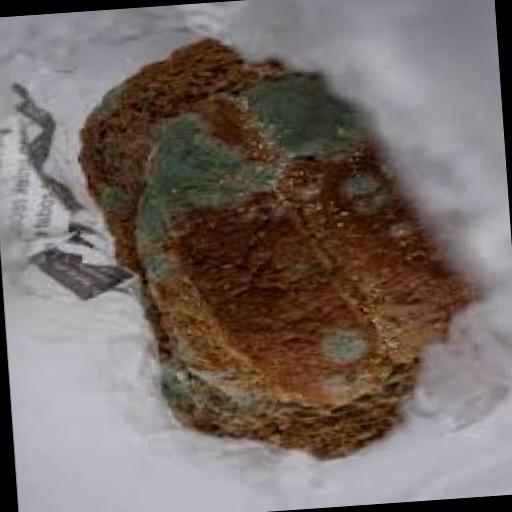biodegradable: (64, 25, 422, 479), (119, 54, 481, 430)
paper: (0, 74, 121, 313)
